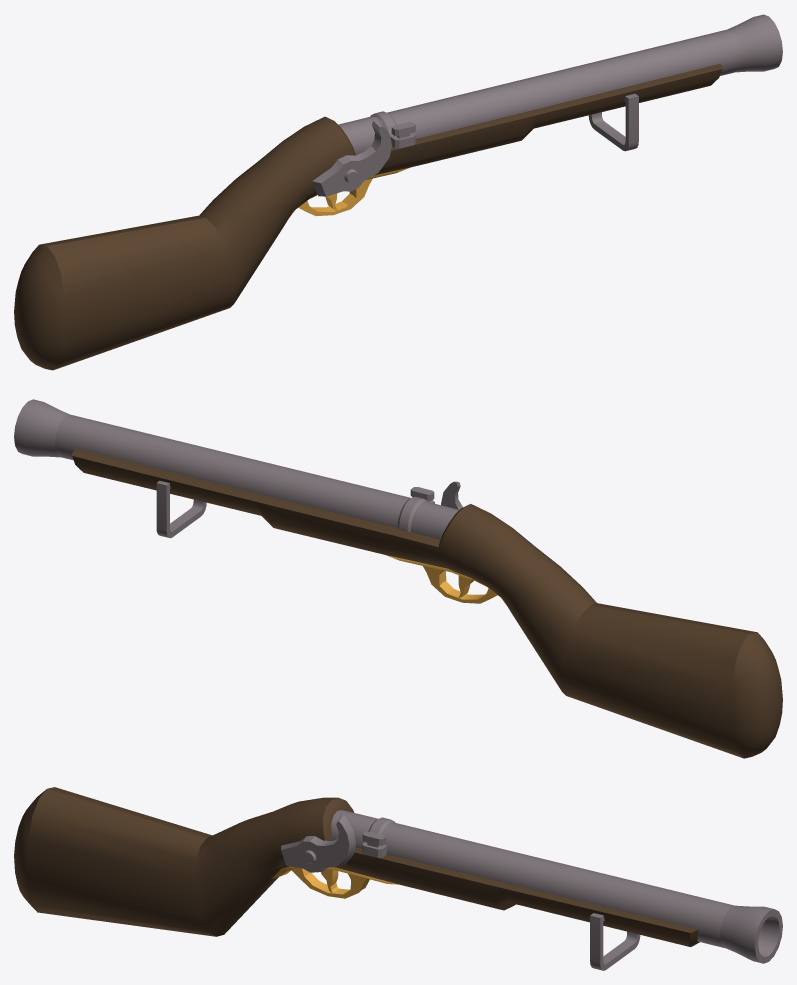
Rendered from rifle.glb.
The picture shows the model from 3 angles, top to bottom: view 1: azimuth 30°, elevation 25°; view 2: azimuth 150°, elevation 25°; view 3: azimuth 330°, elevation 25°; orthographic projection.
Visible parts, largest first — view 1: rifle, flintlock, handle; view 2: rifle, handle; view 3: rifle, flintlock, handle.
Boxes of the visible parts, box(x1,y1,x2,y2) form: rifle: box(14, 14, 782, 370); flintlock: box(312, 119, 391, 196); handle: box(588, 93, 638, 151); rifle: box(14, 399, 782, 758); handle: box(156, 480, 206, 538); rifle: box(14, 787, 782, 963); flintlock: box(281, 814, 355, 872); handle: box(590, 913, 640, 970).
Bounding box in the file's own units: 2.9 × 0.6856 × 0.2849.
Materials: 1 (1 with a texture image).
